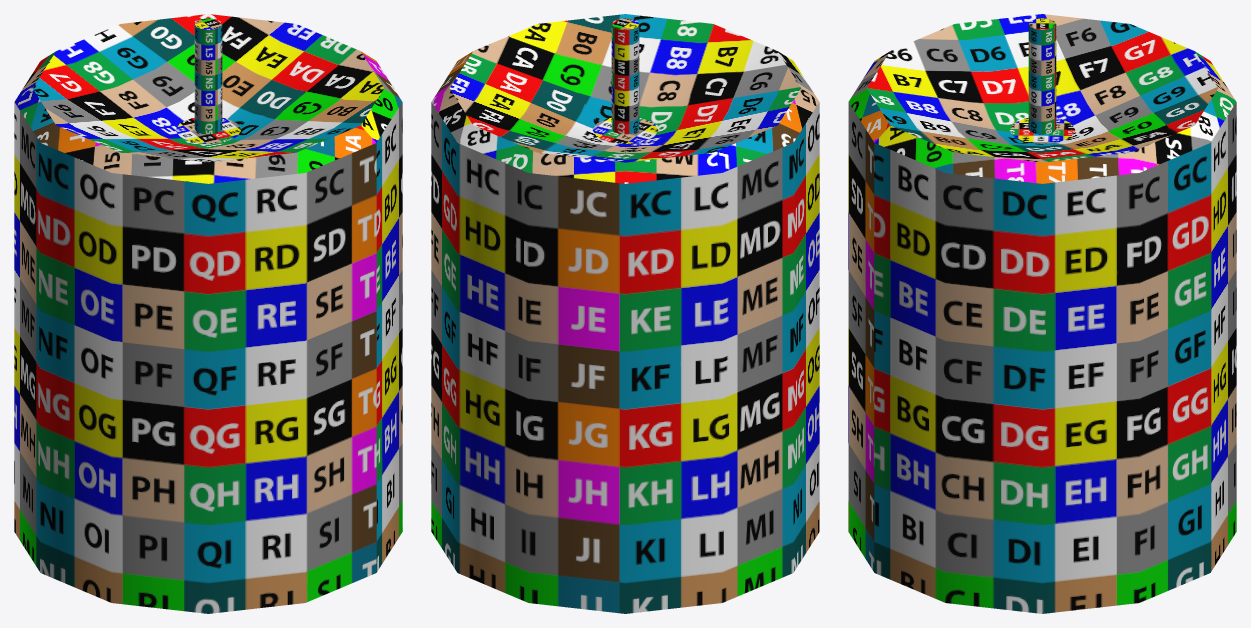
Rendered from candle1.FBX.
3 renders of one model, left to right at view 1: azimuth 30°, elevation 25°; view 2: azimuth 150°, elevation 25°; view 3: azimuth 270°, elevation 25°, orthographic.
Parts seen in each view (by area): view 1: Cylinder001, candle; view 2: Cylinder001, candle; view 3: Cylinder001, candle.
Part boxes in pixels (x1,y1,x2,y2): Cylinder001: (14,14,402,613); candle: (194,18,222,134); Cylinder001: (431,14,819,613); candle: (611,18,639,134); Cylinder001: (848,14,1236,613); candle: (1028,18,1056,134).
Size of the model in its own units: 0.2292 by 0.3309 by 0.2292.
Materials: 1 (1 with a texture image).
